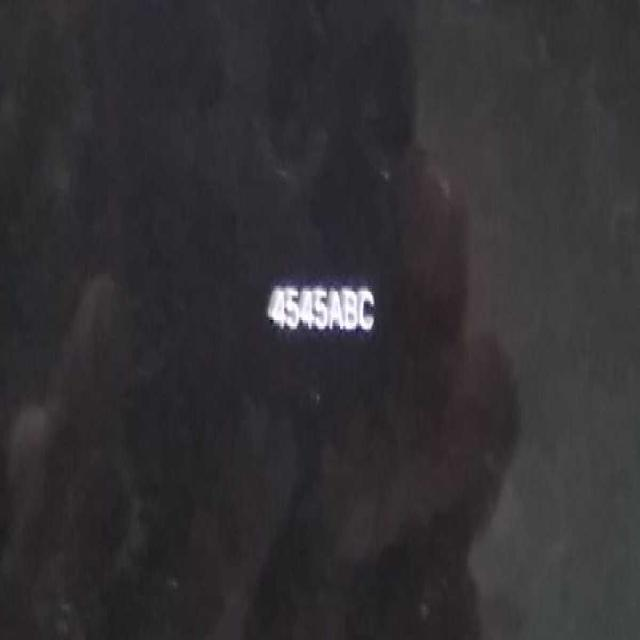license_plate: (268, 275, 377, 336)
